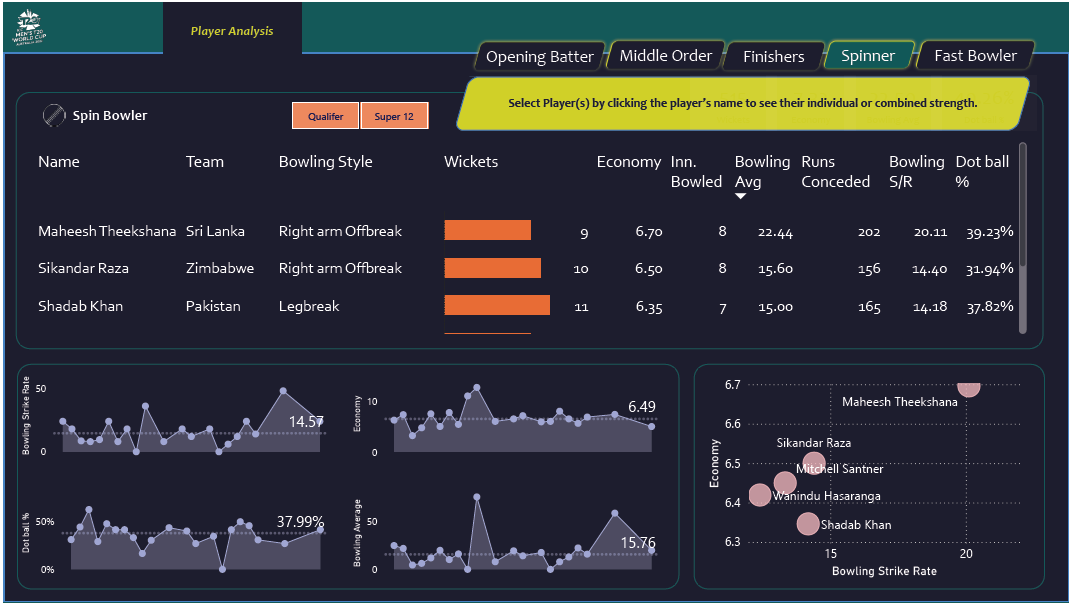

Layout of this report page (visuals, bound fields, positions):
{"tool":"powerbi","page":{"name":"Spinner Bowler","canvas":[1280,720],"ordinal":3},"visuals":[{"type":"shape","box":[0,60,1279.8,660.5],"z":0},{"type":"card","fields":{"Values":["key_measures.Wickets"]},"box":[825,87,103.7,66.1],"z":0,"group":"g3"},{"type":"group","id":"g1","title":"Group 2","box":[82.2,119.9,237.8,30.4],"z":0,"group":"g2"},{"type":"shape","box":[82.2,119.9,237.8,30.4],"z":0,"group":"g1"},{"type":"card","fields":{"Values":["key_measures.Bowling Average"]},"box":[1010.9,87,116.2,66.1],"z":1000,"group":"g3"},{"type":"shape","box":[14.3,107.3,1235.3,309.3],"z":1000},{"type":"card","fields":{"Values":["key_measures.Economy"]},"box":[916.2,87,107.3,66.1],"z":2000,"group":"g3"},{"type":"image","box":[38.5,117,44.2,35.7],"z":2000},{"type":"card","fields":{"Values":["key_measures.Dot ball %"]},"box":[1114.6,87,126.9,66.1],"z":3000,"group":"g3"},{"type":"shape","box":[15.7,433.8,796.3,271.1],"z":3000},{"type":"shape","box":[829.1,433.8,422.4,271.1],"z":4000},{"type":"tableEx","fields":{"Values":["dim_players.name","dim_players.team","dim_players.bowlingStyle","key_measures.Wickets","key_measures.Economy","key_measures.Total Innings Bowled","key_measures.Bowling Average","key_measures.Runs Conceded","key_measures.Bowling Strike Rate","key_measures.Dot ball %"]},"box":[30,162.7,1204.4,239.7],"z":5000},{"type":"scatterChart","fields":{"Size":["key_measures.Total Runs"],"X":["key_measures.Bowling Strike Rate"],"Y":["key_measures.Economy"],"Category":["fact_bowling_summary.bowlerName"]},"box":[840.5,442.4,393.8,252.6],"z":6000},{"type":"areaChart","fields":{"Category":["dim_match_summary.matchDate.Variation.Date Hierarchy.Year","dim_match_summary.matchDate.Variation.Date Hierarchy.Month","dim_match_summary.matchDate.Variation.Date Hierarchy.Day"],"Y":["key_measures.Bowling Strike Rate"]},"box":[16.1,434.4,379,119.8],"z":7000},{"type":"areaChart","fields":{"Category":["dim_match_summary.matchDate.Variation.Date Hierarchy.Year","dim_match_summary.matchDate.Variation.Date Hierarchy.Month","dim_match_summary.matchDate.Variation.Date Hierarchy.Day"],"Y":["key_measures.Dot ball %"]},"box":[15.7,575.1,379.6,119.9],"z":8000},{"type":"areaChart","fields":{"Category":["dim_match_summary.matchDate.Variation.Date Hierarchy.Year","dim_match_summary.matchDate.Variation.Date Hierarchy.Month","dim_match_summary.matchDate.Variation.Date Hierarchy.Day"],"Y":["key_measures.Bowling Average"]},"box":[413.8,575.1,379.6,119.9],"z":9000},{"type":"areaChart","fields":{"Category":["dim_match_summary.matchDate.Variation.Date Hierarchy.Year","dim_match_summary.matchDate.Variation.Date Hierarchy.Month","dim_match_summary.matchDate.Variation.Date Hierarchy.Day"],"Y":["key_measures.Economy"]},"box":[413.8,433.8,379.6,119.9],"z":10000},{"type":"group","id":"g2","title":"Group 1","box":[82.2,119.9,237.8,30.4],"z":11000},{"type":"slicer","fields":{"Values":["dim_match_summary.Stages"]},"box":[320,110.8,214.5,48.3],"z":12000},{"type":"shape","box":[541,88,694.9,65],"z":13000},{"type":"shape","box":[631.9,101.3,187.7,37.5],"z":14000},{"type":"group","id":"g3","title":"Group 3","box":[825,87,416.5,66.1],"z":14500},{"type":"image","box":[5.7,0,48.5,58.5],"z":16000},{"type":"actionButton","box":[859,42.8,132.7,41.4],"z":17000},{"type":"actionButton","box":[719.2,42,152.7,41.4],"z":18000},{"type":"actionButton","box":[1091.6,42,152.7,41.4],"z":19000},{"type":"actionButton","title":"Button Player Ana selected","box":[191,0,166,66],"z":20000},{"type":"actionButton","box":[560.8,42.8,167,41.4],"z":21000},{"type":"shape","box":[980.3,42,119.9,41.4],"z":22000},{"type":"shape","box":[599.3,101.3,577.9,37.1],"z":24000}]}

Visuals, with their boxes in screenshot pixels (x1, y1, x2, y2), scaled from the page's 1280x720 canvas onto the 1071x606 screenshot:
shape: (0,50,1070,605)
card - key_measures.Wickets: (690,73,777,129)
"Group 2" group: (69,101,268,127)
shape: (69,101,268,127)
card - key_measures.Bowling Average: (846,73,943,129)
shape: (12,90,1046,351)
card - key_measures.Economy: (767,73,856,129)
image: (32,98,69,129)
card - key_measures.Dot ball %: (933,73,1039,129)
shape: (13,365,679,593)
shape: (694,365,1047,593)
tableEx - dim_players.name x dim_players.team: (25,137,1033,339)
scatterChart - key_measures.Total Runs x key_measures.Bowling Strike Rate: (703,372,1033,585)
areaChart - dim_match_summary.matchDate.Variation.Date Hierarchy.Year x dim_match_summary.matchDate.Variation.Date Hierarchy.Month: (13,366,331,466)
areaChart - dim_match_summary.matchDate.Variation.Date Hierarchy.Year x dim_match_summary.matchDate.Variation.Date Hierarchy.Month: (13,484,331,585)
areaChart - dim_match_summary.matchDate.Variation.Date Hierarchy.Year x dim_match_summary.matchDate.Variation.Date Hierarchy.Month: (346,484,664,585)
areaChart - dim_match_summary.matchDate.Variation.Date Hierarchy.Year x dim_match_summary.matchDate.Variation.Date Hierarchy.Month: (346,365,664,466)
"Group 1" group: (69,101,268,127)
slicer - dim_match_summary.Stages: (268,93,447,134)
shape: (453,74,1034,129)
shape: (529,85,686,117)
"Group 3" group: (690,73,1039,129)
image: (5,0,45,49)
actionButton: (719,36,830,71)
actionButton: (602,35,730,70)
actionButton: (913,35,1041,70)
"Button Player Ana selected" actionButton: (160,0,299,56)
actionButton: (469,36,609,71)
shape: (820,35,921,70)
shape: (501,85,985,116)
